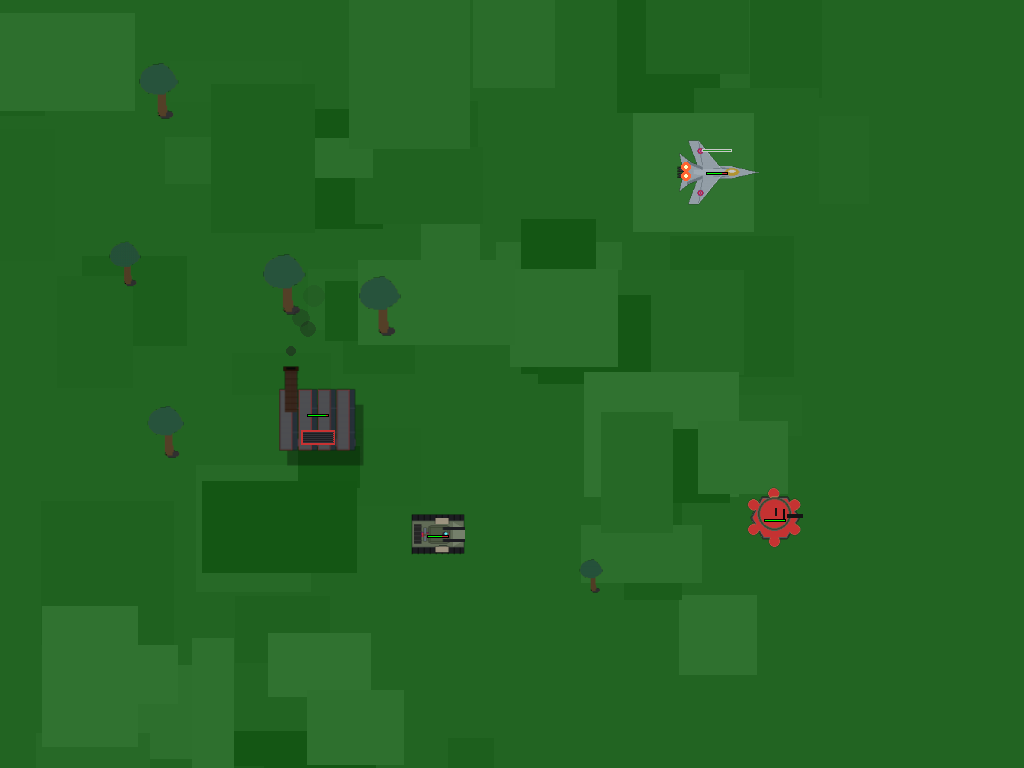APC_chn: (742, 485, 804, 550)
AntiAirTurret: (266, 361, 368, 463)
KirovAirship: (696, 150, 738, 192)
TerminatorIFV: (413, 509, 462, 558)
